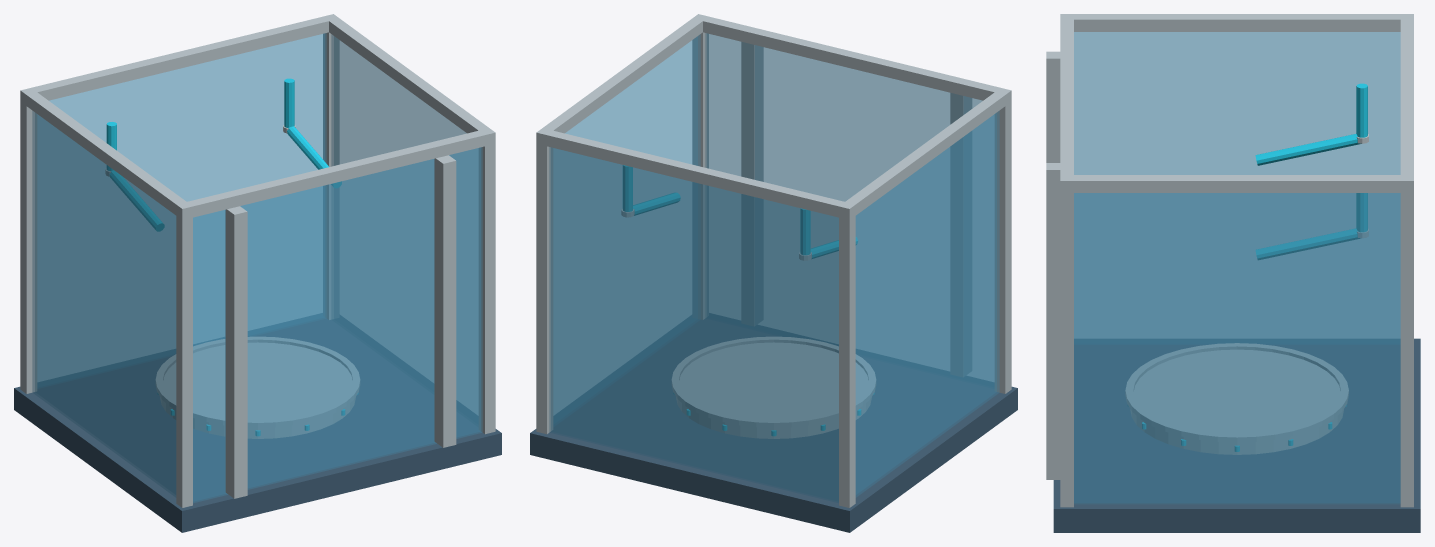
Rendered from 40_L73_PostCMPRinseChamber.fbx.
The picture shows the model from 3 angles, left to right: view 1: azimuth 30°, elevation 25°; view 2: azimuth 150°, elevation 25°; view 3: azimuth 270°, elevation 25°; orthographic projection. The views are drawn at different scales.
Parts seen in each view (by area): view 1: PostCMPRinseChamber; view 2: PostCMPRinseChamber; view 3: PostCMPRinseChamber.
Boxes of the visible parts, left/top/right/bottom form: PostCMPRinseChamber: left=14, top=14, right=501, bottom=532; PostCMPRinseChamber: left=530, top=14, right=1017, bottom=532; PostCMPRinseChamber: left=1046, top=14, right=1420, bottom=532.
Bounding box in the file's own units: 245 × 235 × 228.
